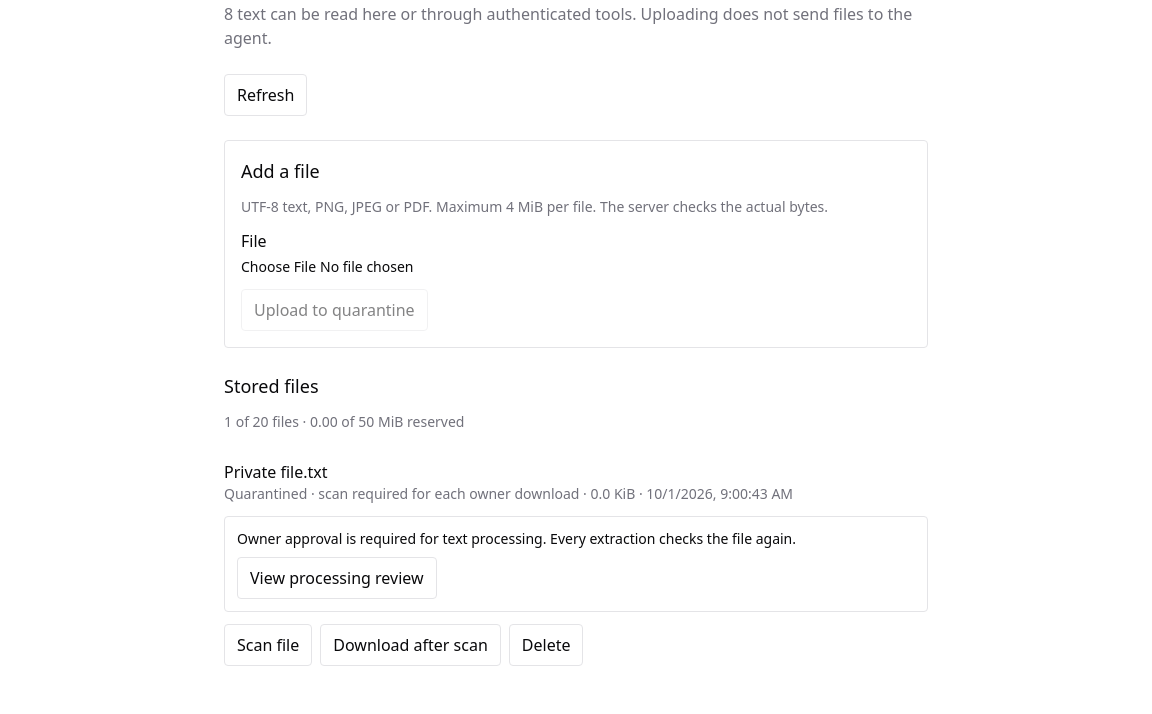
aborts a scan on account change and ignores its late verdict
(page scrolled)
Click the button "Scan file": click(268, 645) [224,624,312,666]
(page scrolled)
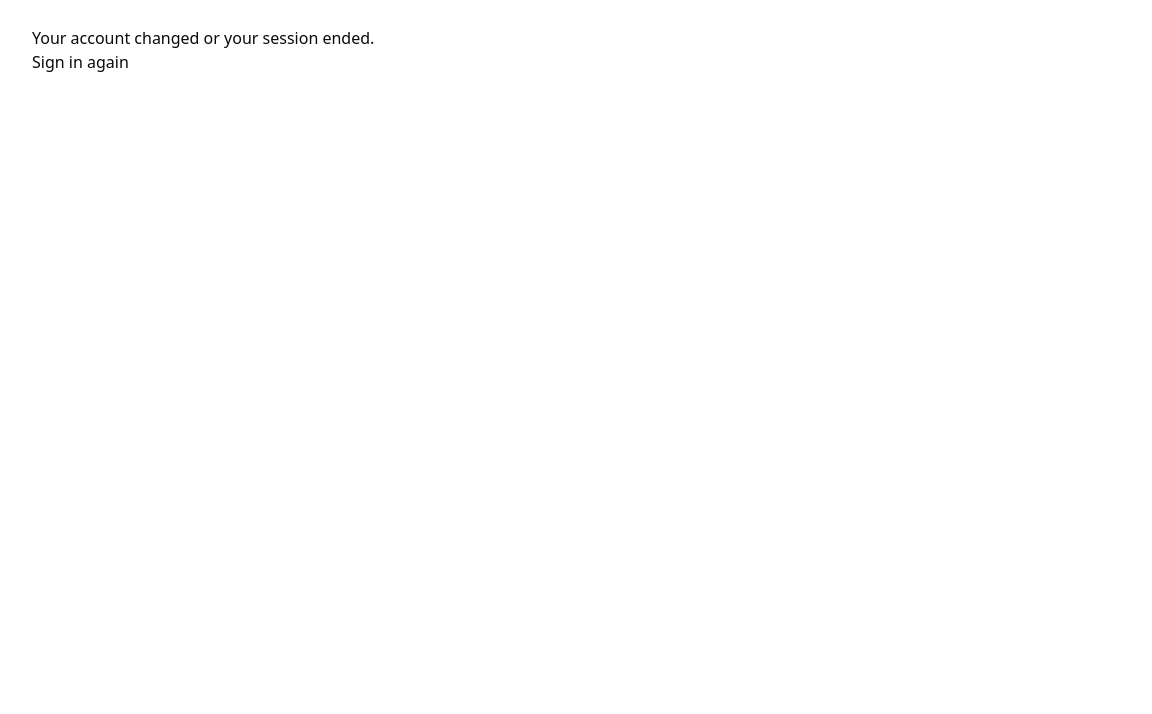
Now the message shows "Your account changed", box [32,27,374,49]
Now the heading "Private file.txt" is gone
